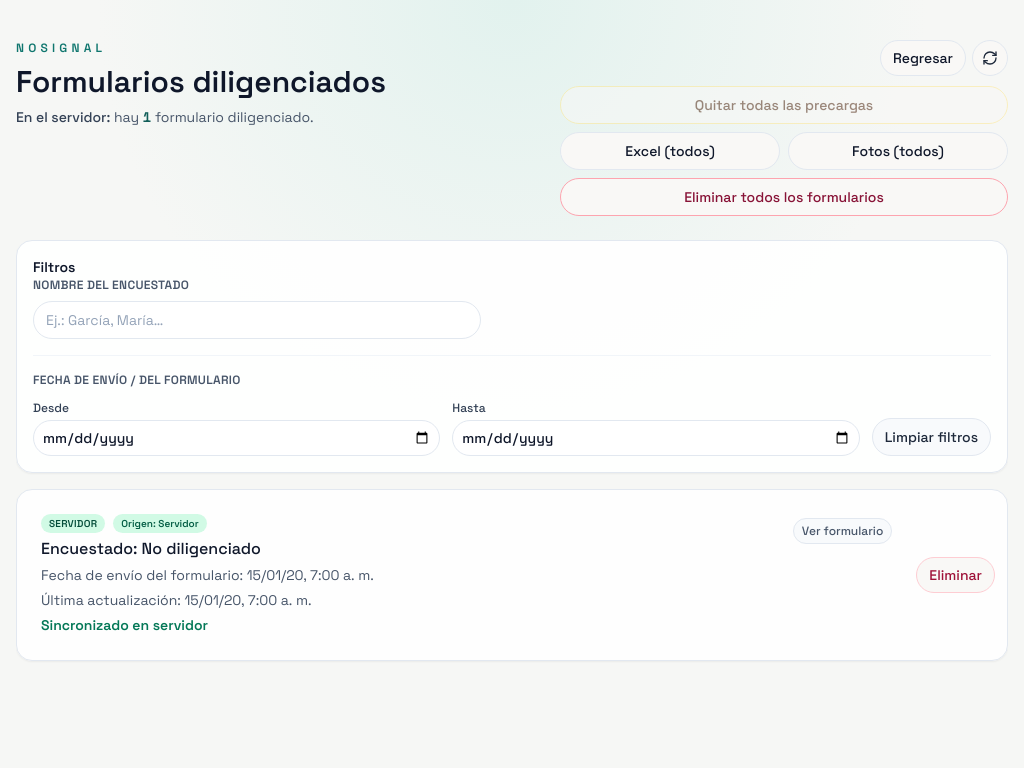
it: FormulariosDiligenciadosPage — borrado masivo › con la contraseña correcta borra en servidor y en dispositivo y vacía el listado
The image size is (1024, 768).
Click the button "Eliminar todos los formularios".
click(784, 197)  # box [560,178,1008,216]
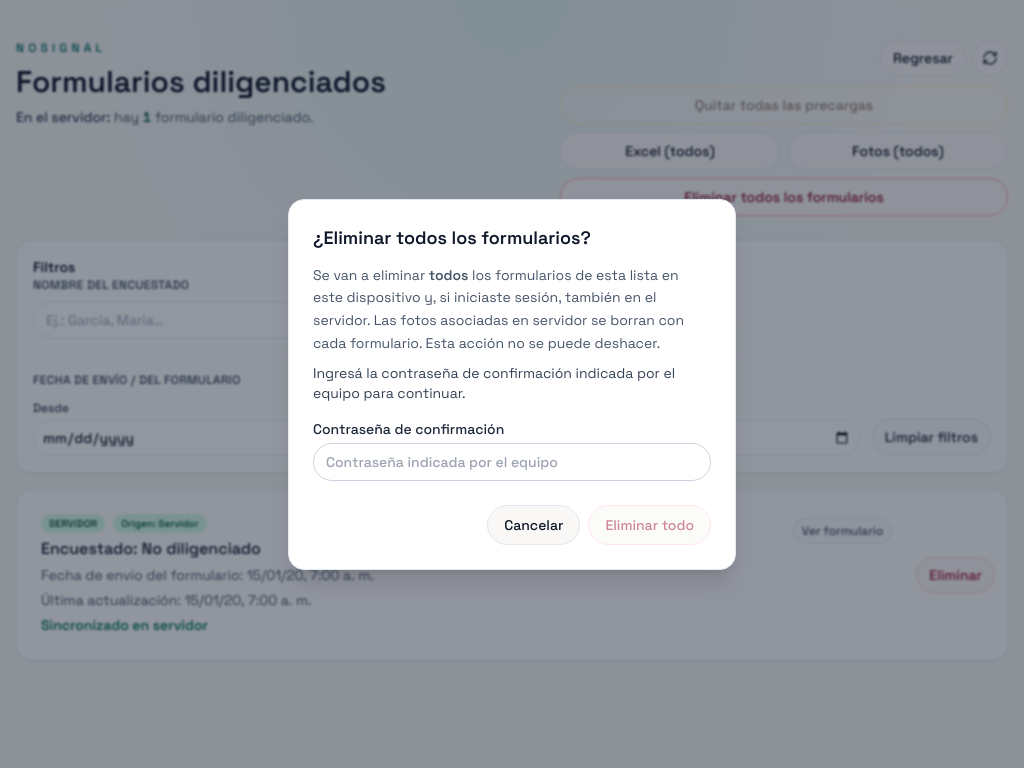
Type "123456789" into the password field labelled "Contraseña de confirmación".
click(512, 462); type("123456789")  # box [313,442,711,480]
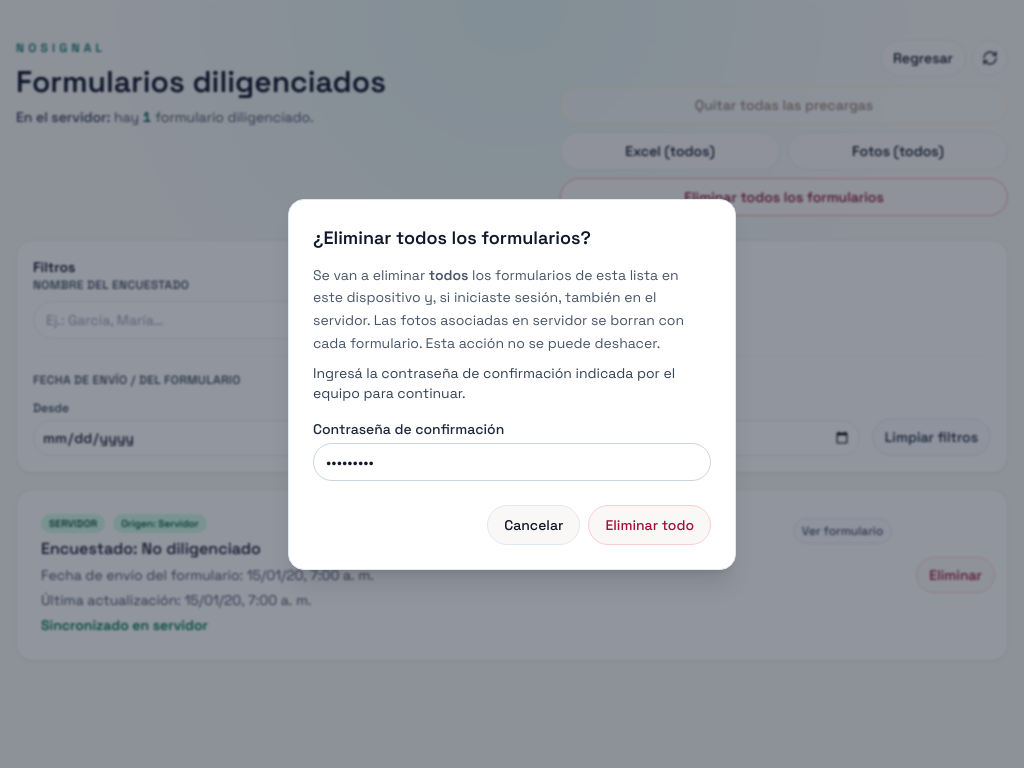
Click the button "Eliminar todo".
click(650, 524)  # box [588,504,711,544]
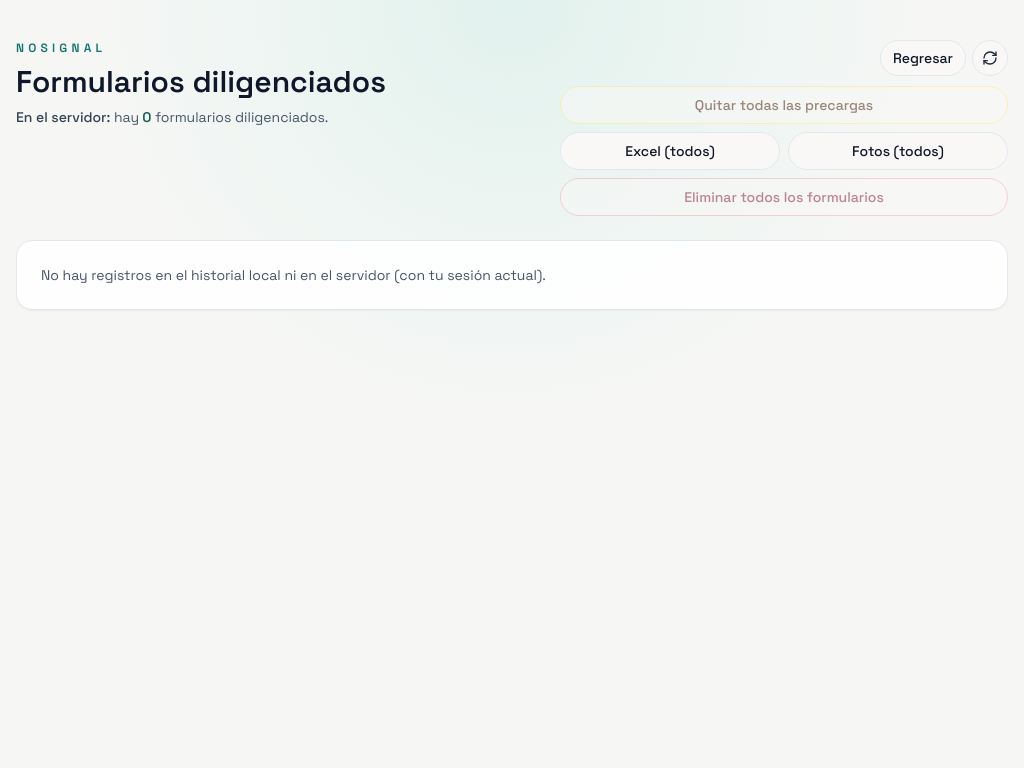
Now the text "No hay registros en el historial local ni en el servidor" is shown, box [41,266,546,284]
Now the heading "¿Eliminar todos los formularios?" is gone
